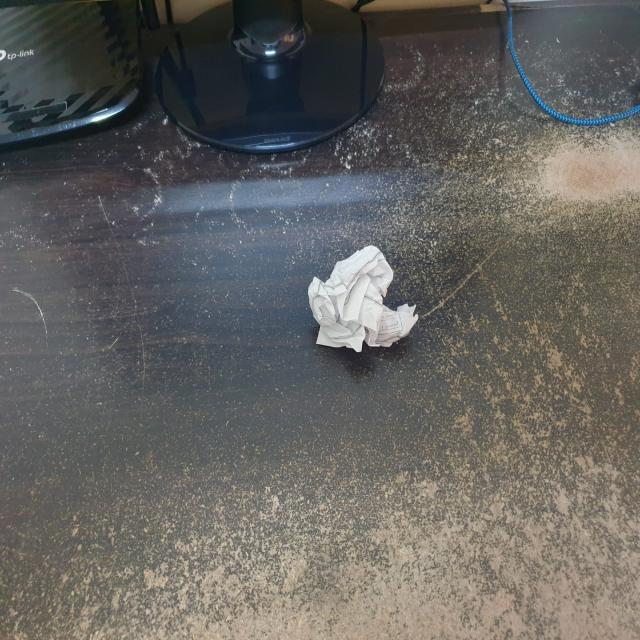Paper: (302, 241, 418, 353)
